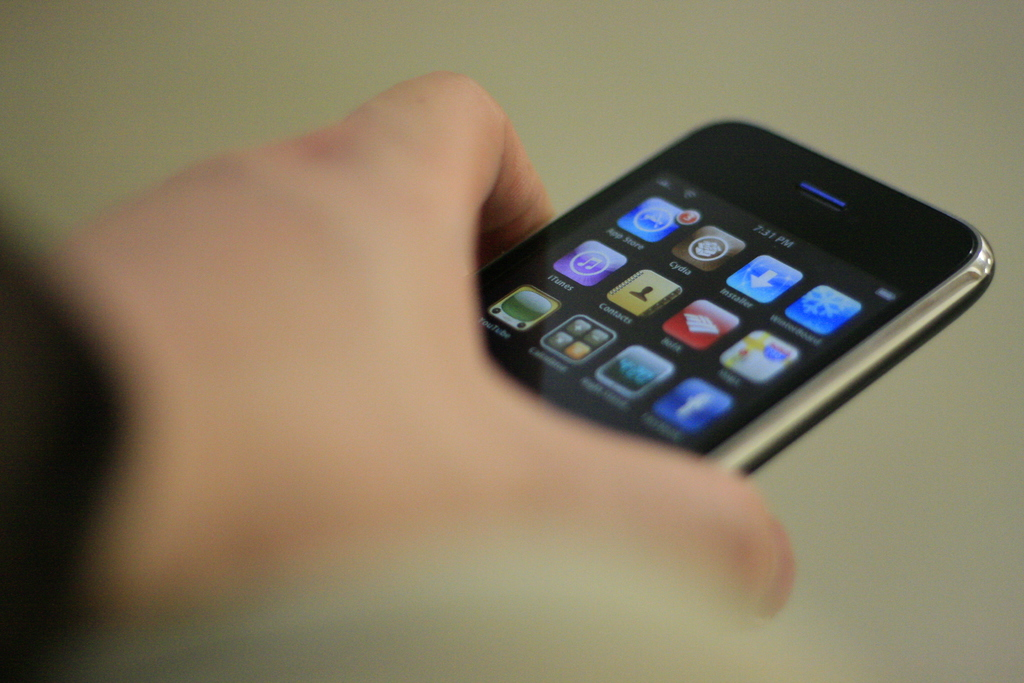Mobile-phone: (467, 119, 999, 467)
